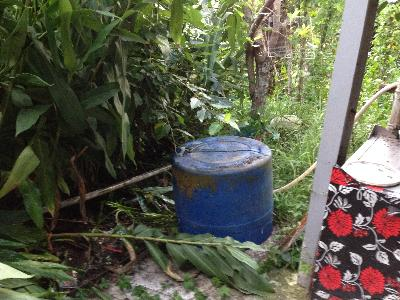bucket: (172, 134, 277, 249)
